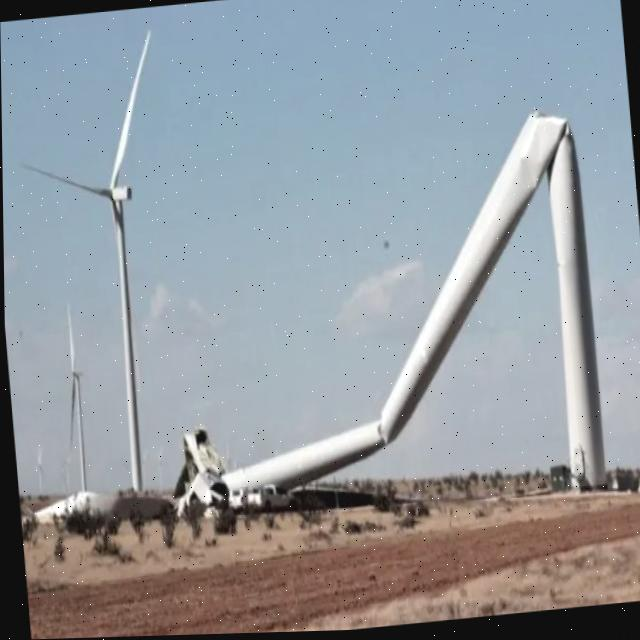solid-blade: (109, 30, 149, 188), (22, 165, 111, 196)
